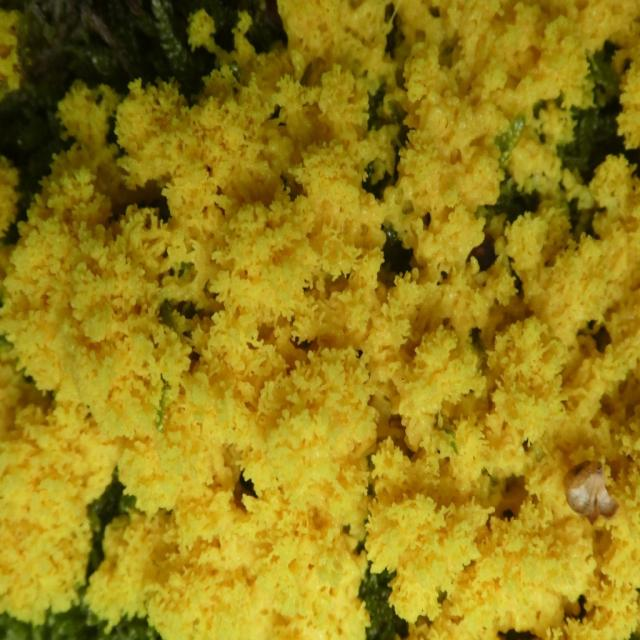Dog_vomit_slime_mold: (5, 13, 633, 610)
